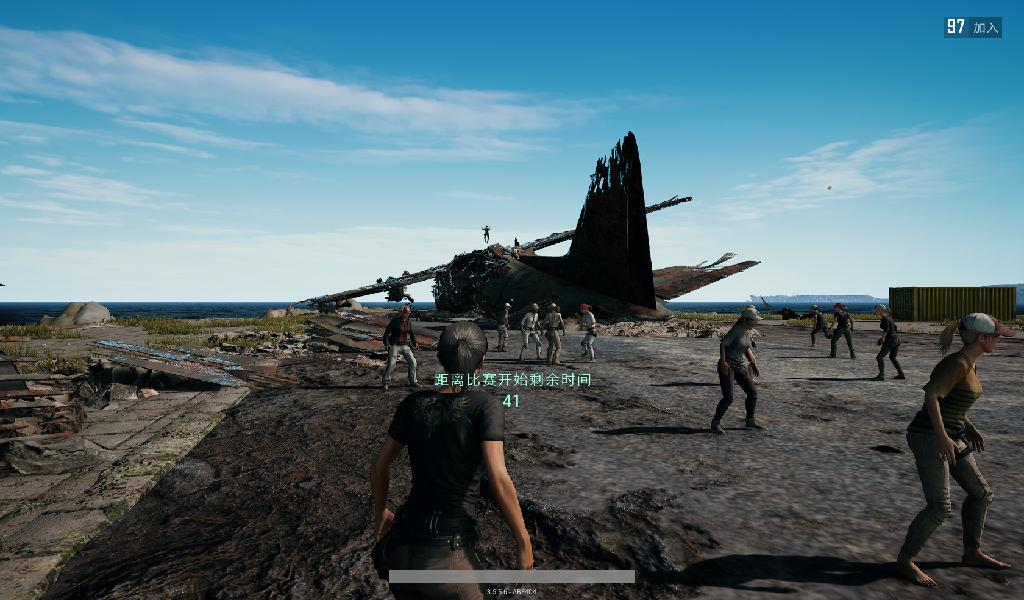Target Person: (377, 319, 535, 600), (904, 311, 1013, 585), (709, 307, 763, 434), (382, 304, 421, 390), (868, 303, 906, 382), (574, 302, 598, 366), (830, 303, 855, 362), (520, 301, 543, 365), (540, 303, 563, 365), (806, 302, 836, 345), (494, 298, 513, 353), (480, 223, 492, 247)
